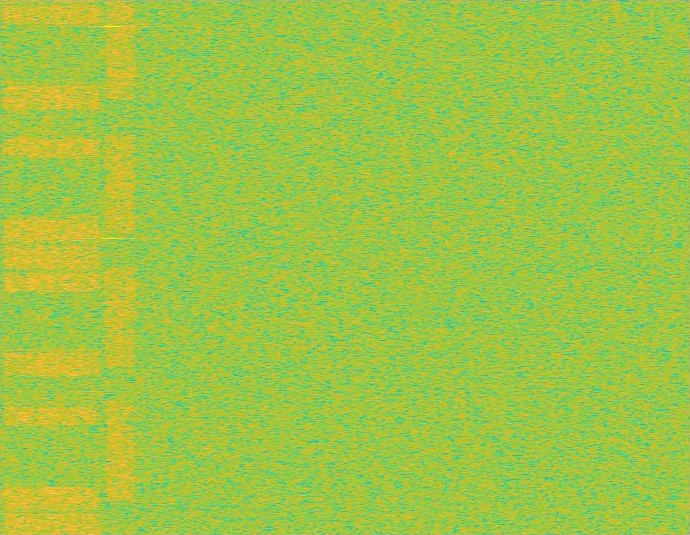5G: (104, 0, 138, 534)
LTE: (0, 0, 104, 534)
Radar: (105, 0, 119, 534)
